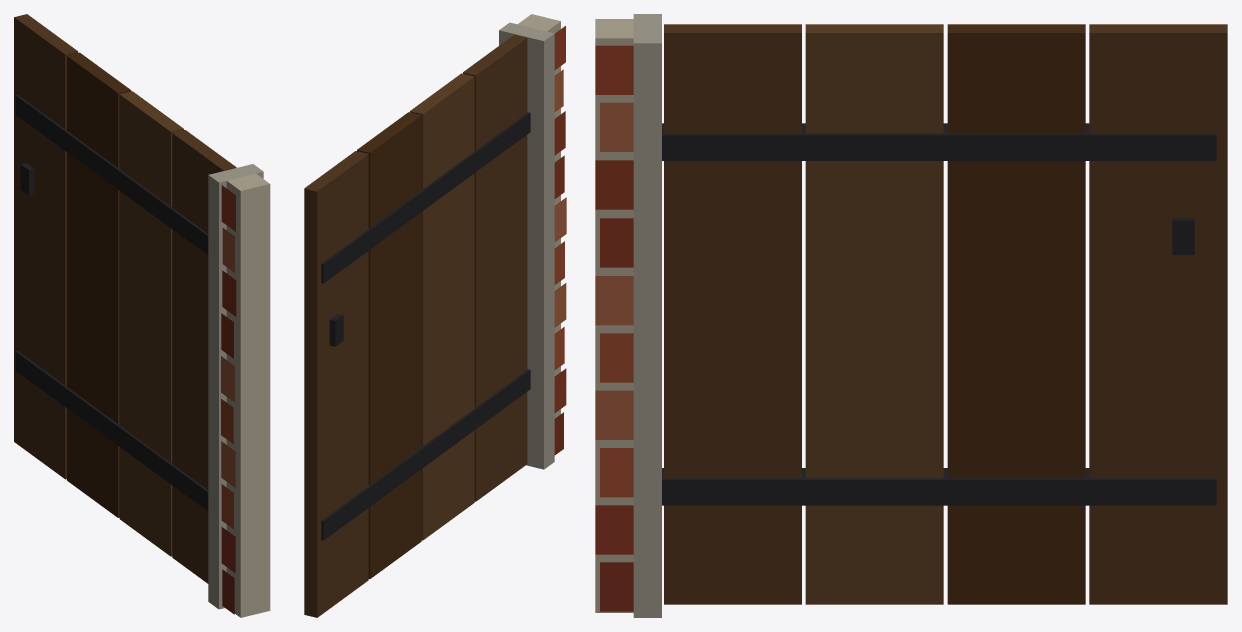
Rendered from wall-brick-door-shut-low-r.glb.
3 renders of one model, left to right at view 1: azimuth 30°, elevation 25°; view 2: azimuth 150°, elevation 25°; view 3: azimuth 270°, elevation 25°, orthographic. The views are drawn at different scales.
Parts seen in each view (by area): view 1: wall-brick-door-shut-low-r; view 2: wall-brick-door-shut-low-r; view 3: wall-brick-door-shut-low-r.
Boxes of the visible parts, x1,y1,x2,y2 form: wall-brick-door-shut-low-r: (14, 14, 270, 617); wall-brick-door-shut-low-r: (304, 14, 566, 617); wall-brick-door-shut-low-r: (595, 14, 1227, 617).
Size of the model in its own units: 0.11 by 1 by 0.997.
